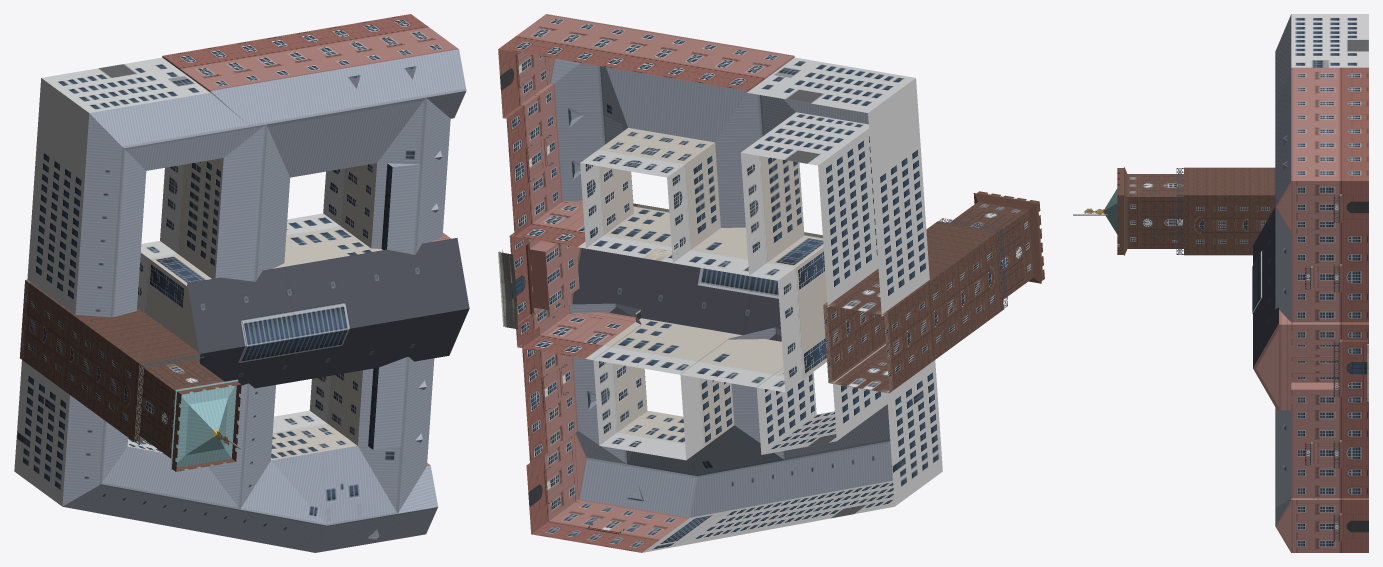
The model's file is DEU_CY0224_KARLSRUHE_RATHAUS_KARLSRUHE_S.OBJ.
The picture shows the model from 3 angles, left to right: view 1: azimuth 30°, elevation 25°; view 2: azimuth 150°, elevation 25°; view 3: azimuth 270°, elevation 25°; orthographic projection. The views are drawn at different scales.
Visible parts, largest first — view 1: S; view 2: S; view 3: S.
Boxes of the visible parts, x1=… form: S: x1=14, y1=14, x2=469, y2=552; S: x1=498, y1=14, x2=1044, y2=552; S: x1=1073, y1=14, x2=1368, y2=552.
Size of the model in its own units: 66.11 by 79.74 by 52.4.
1 material, 1 textured.
